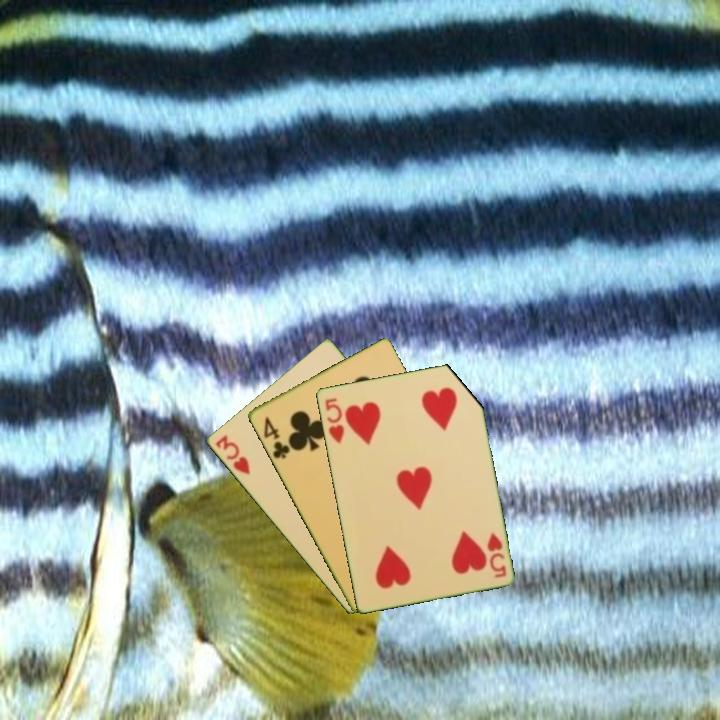3h: (212, 431, 253, 478)
4c: (260, 413, 292, 462)
5h: (321, 394, 347, 446), (483, 529, 509, 581)
